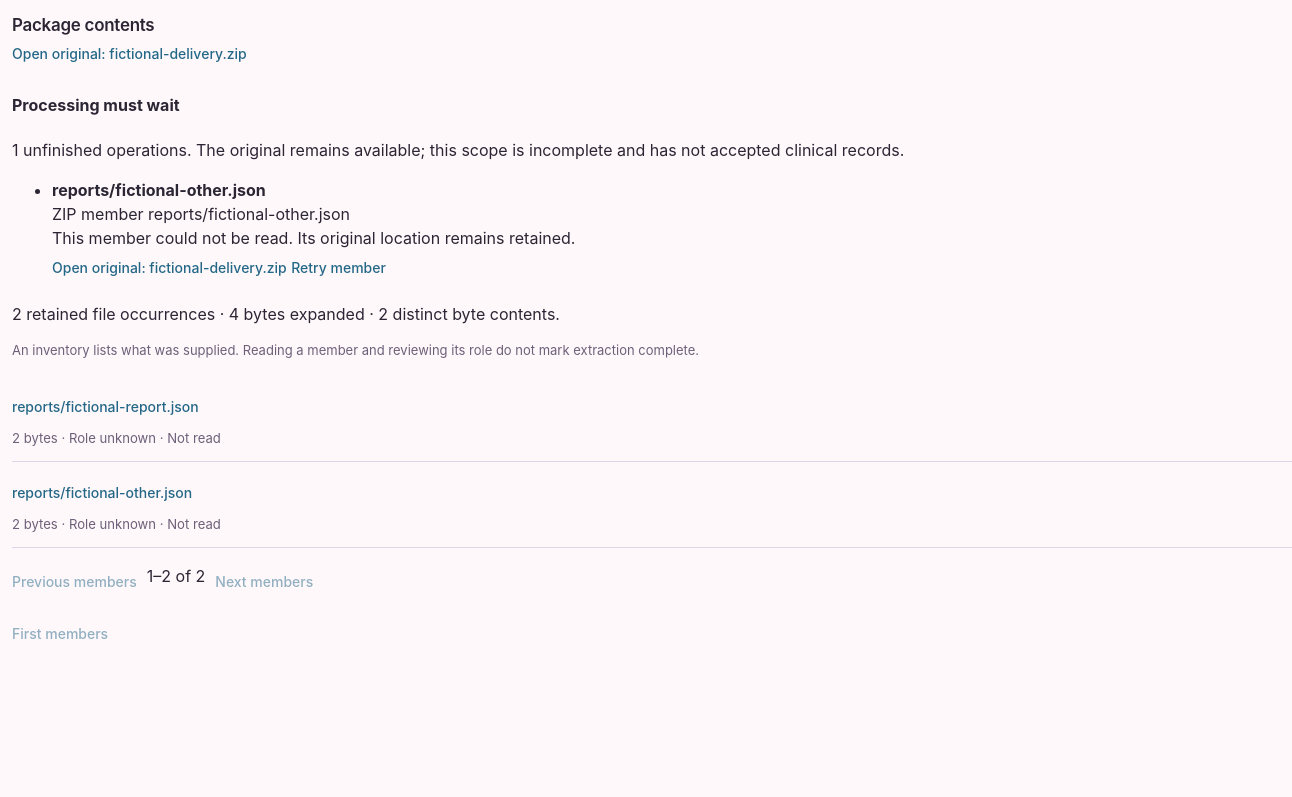
Test case: clears a prior selected member and navigation when a different read_member retry fails
What coordinates should you click on to do the following:
click the button "reports/fictional-report.json"
I would click on:
 (105, 406)
Its box is x1=12 y1=388 x2=199 y2=424.
(page scrolled)
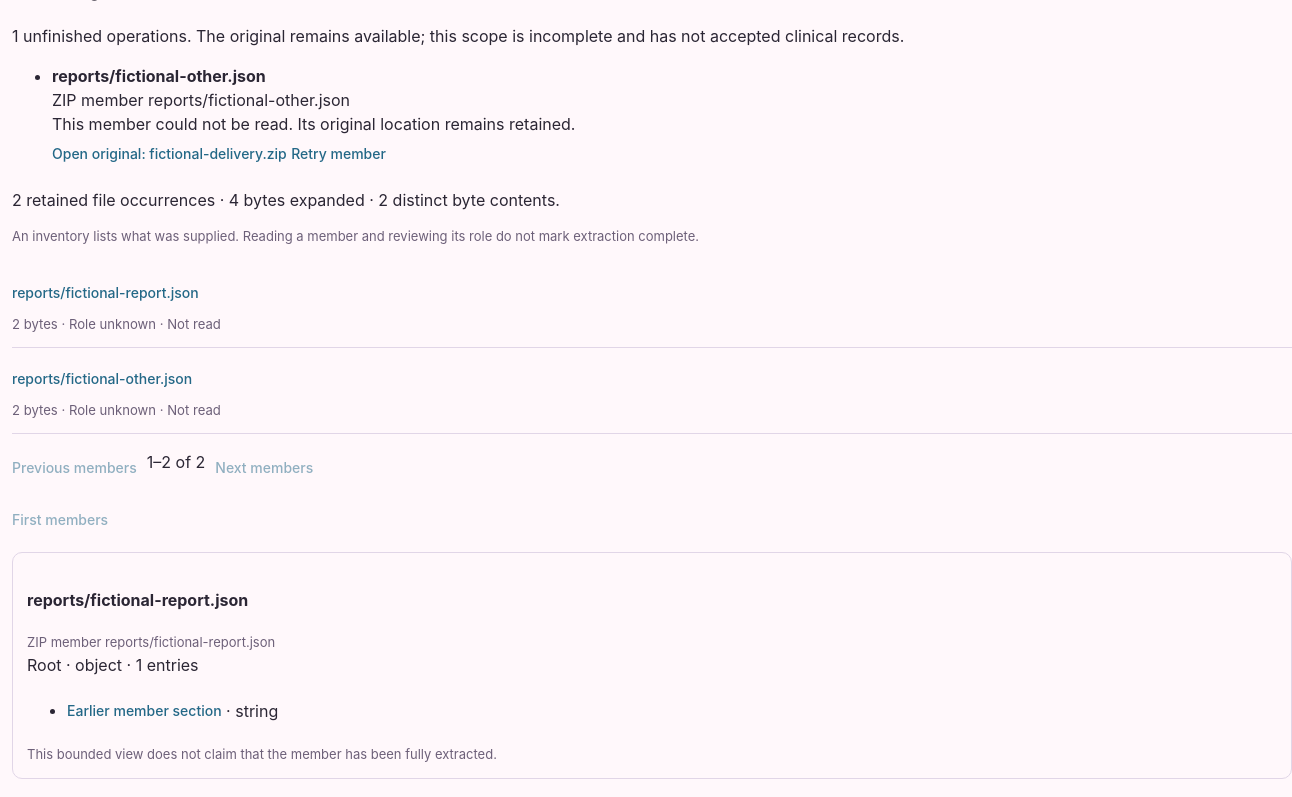
What coordinates should you click on to do the following:
click the button "Earlier member section"
I would click on:
 (144, 711)
Its box is x1=67 y1=693 x2=222 y2=729.
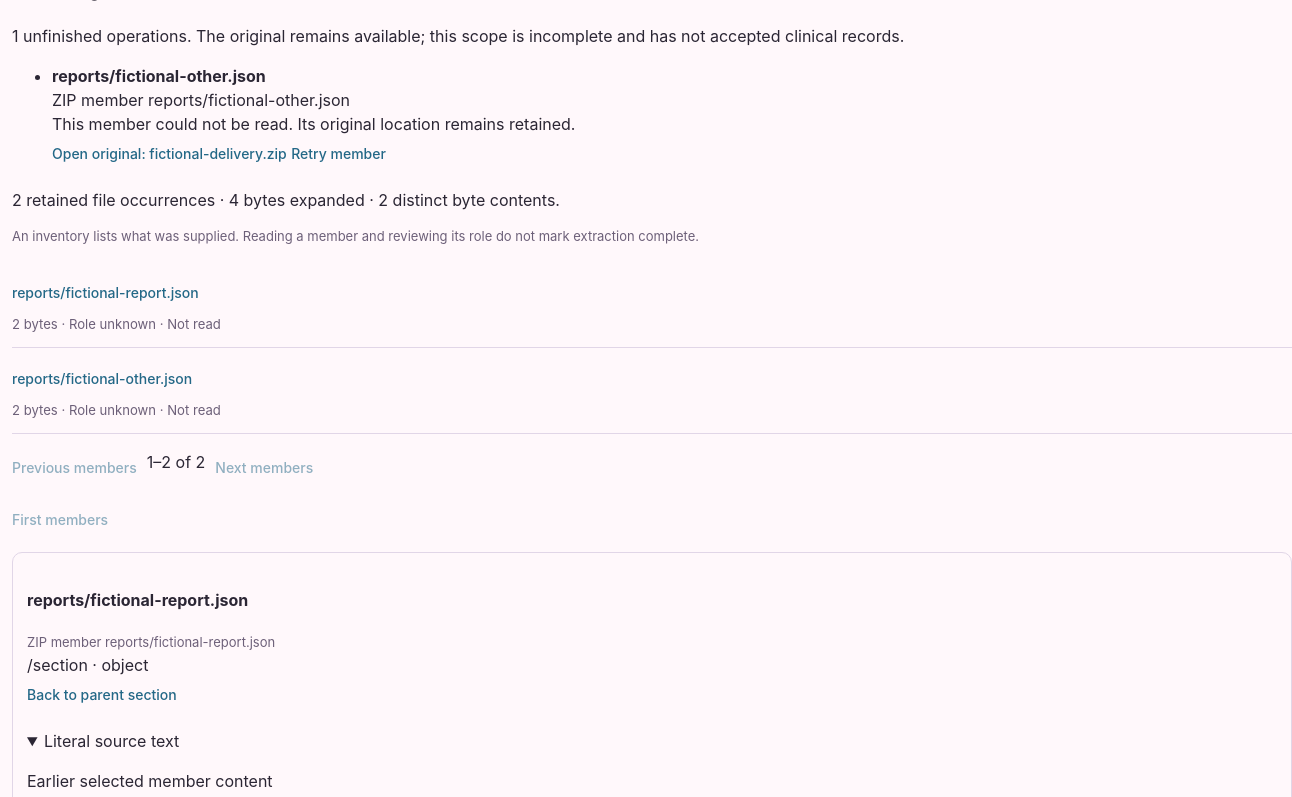
Result: the text "Earlier selected member content" is shown at x1=27 y1=771 x2=273 y2=791
Result: the button "Back to parent section" is shown at x1=27 y1=677 x2=177 y2=713
What coordinates should you click on to do the following:
click the button "Retry member"
I would click on:
 (339, 154)
Its box is x1=291 y1=136 x2=386 y2=172.
(page scrolled)
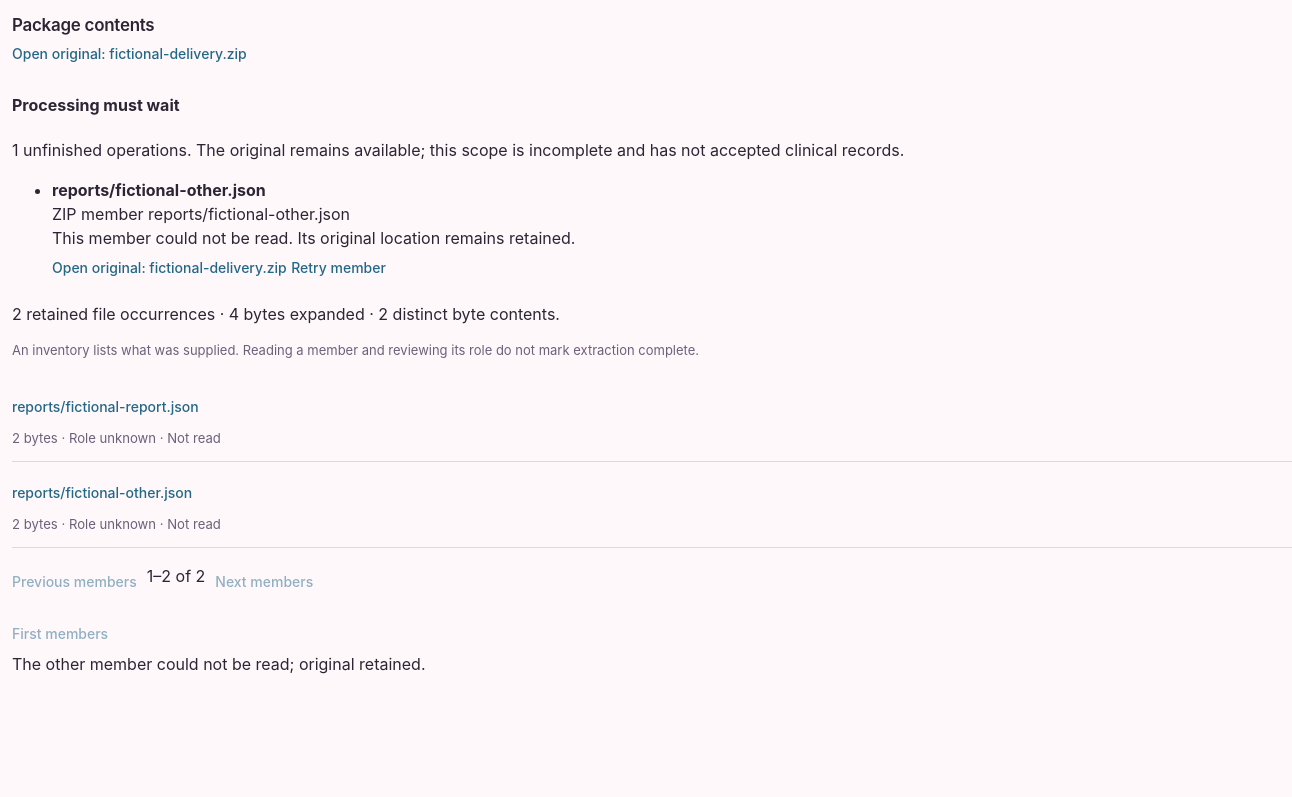
Result: the text "The other member could not be read; original retained." is shown at x1=12 y1=654 x2=426 y2=674
Result: the text "Earlier selected member content" is gone
Result: the button "Back to parent section" is gone
What coordinates should you click on to do the following:
click the button "Retry member"
I would click on:
 (339, 268)
Its box is x1=291 y1=250 x2=386 y2=286.
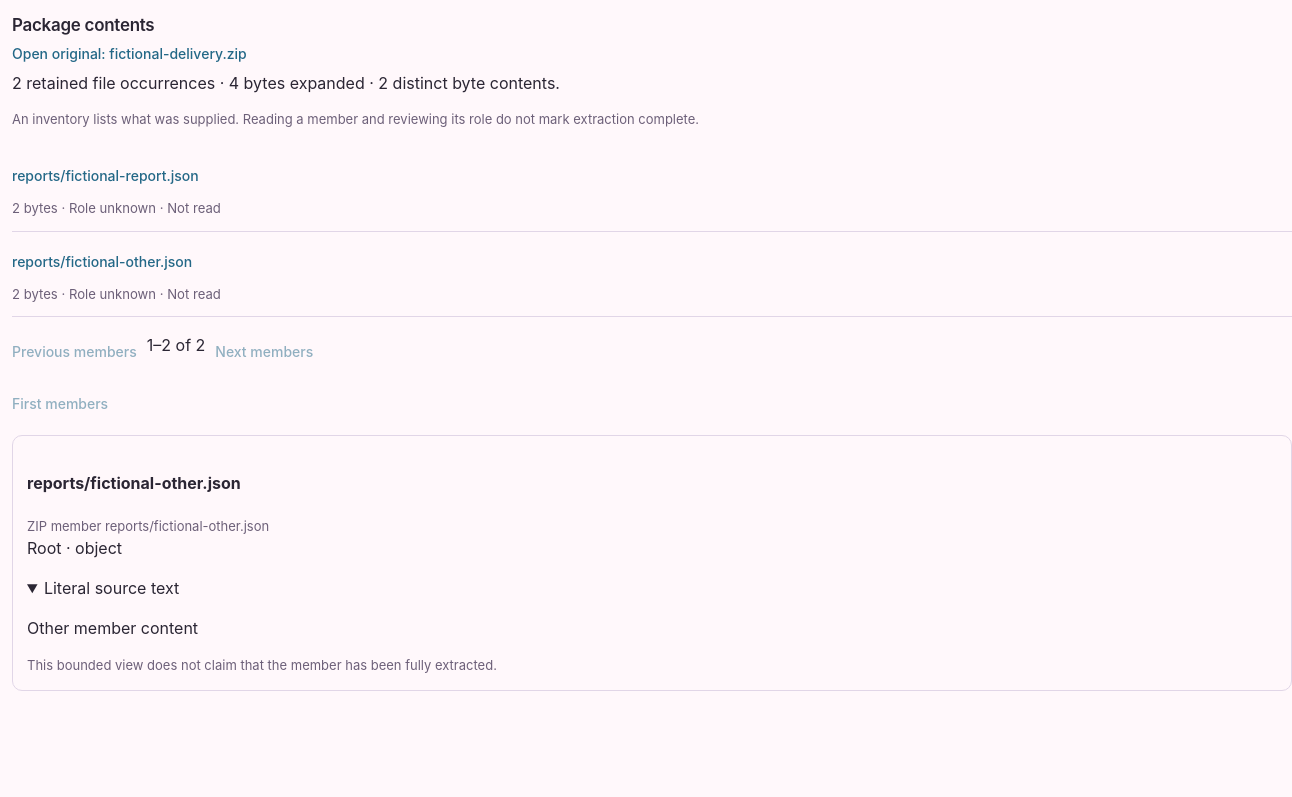
Expected: the button "Back to parent section" is not shown
Result: the text "Other member content" is shown at x1=27 y1=618 x2=198 y2=638
